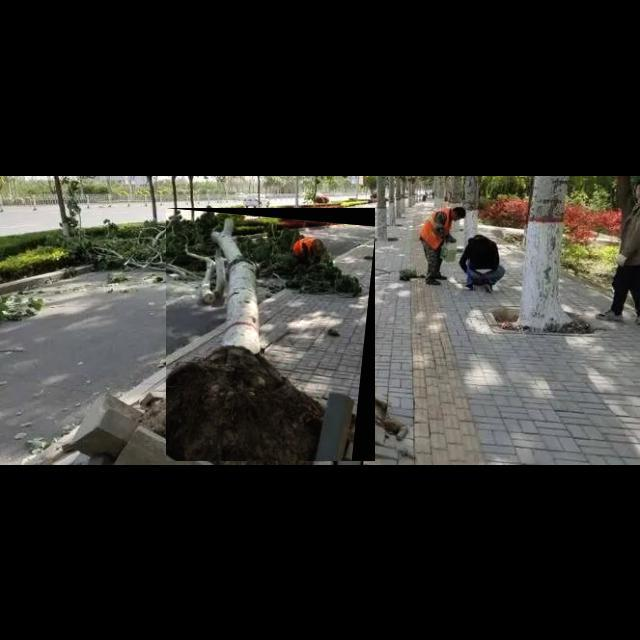fallen_tree: (166, 208, 376, 462)
